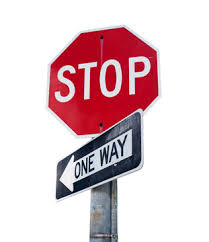stop sign: (47, 26, 161, 138)
